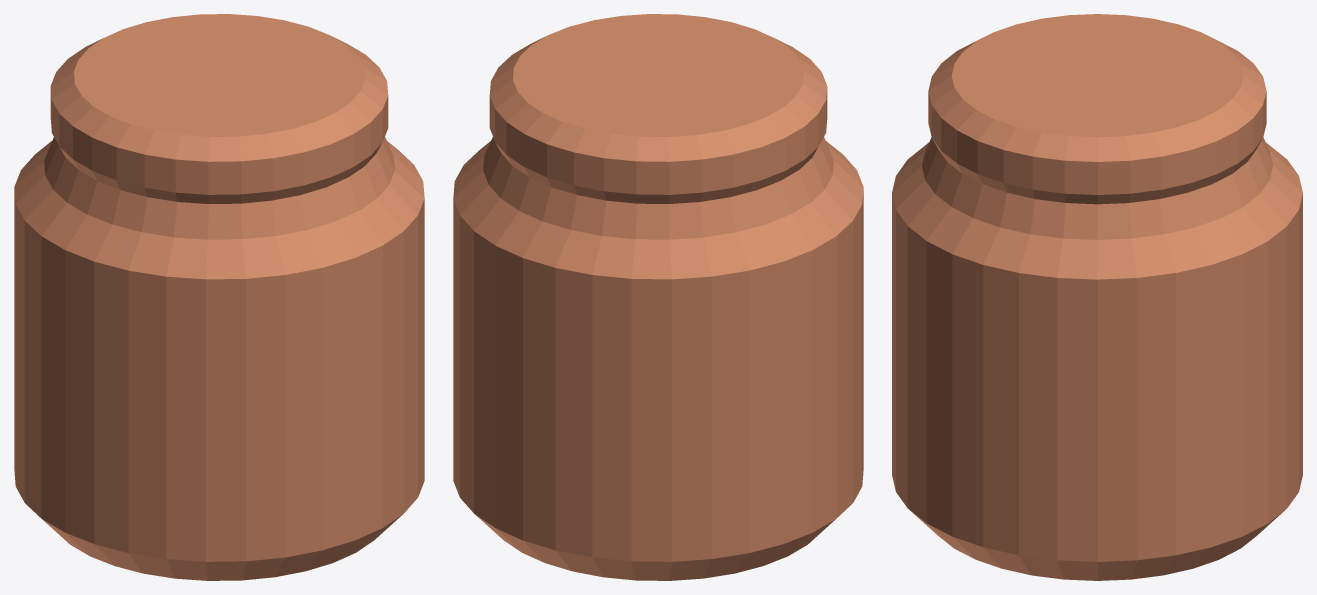
File: cairn-vessel.glb
3 renders of one model, left to right at view 1: azimuth 30°, elevation 25°; view 2: azimuth 150°, elevation 25°; view 3: azimuth 270°, elevation 25°, orthographic.
Visible parts, largest first — view 1: Cairn vessel; view 2: Cairn vessel; view 3: Cairn vessel.
Part boxes in pixels (x1,y1,x2,y2): Cairn vessel: (14,14,424,580); Cairn vessel: (453,14,863,580); Cairn vessel: (892,14,1302,580).
Size of the model in its own units: 1.24 by 1.44 by 1.24.
